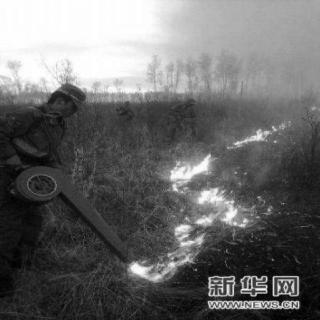Fire: (118, 155, 254, 279), (224, 109, 284, 151)
Smoke: (196, 4, 302, 74)
other: (1, 73, 133, 263), (115, 97, 141, 120)
